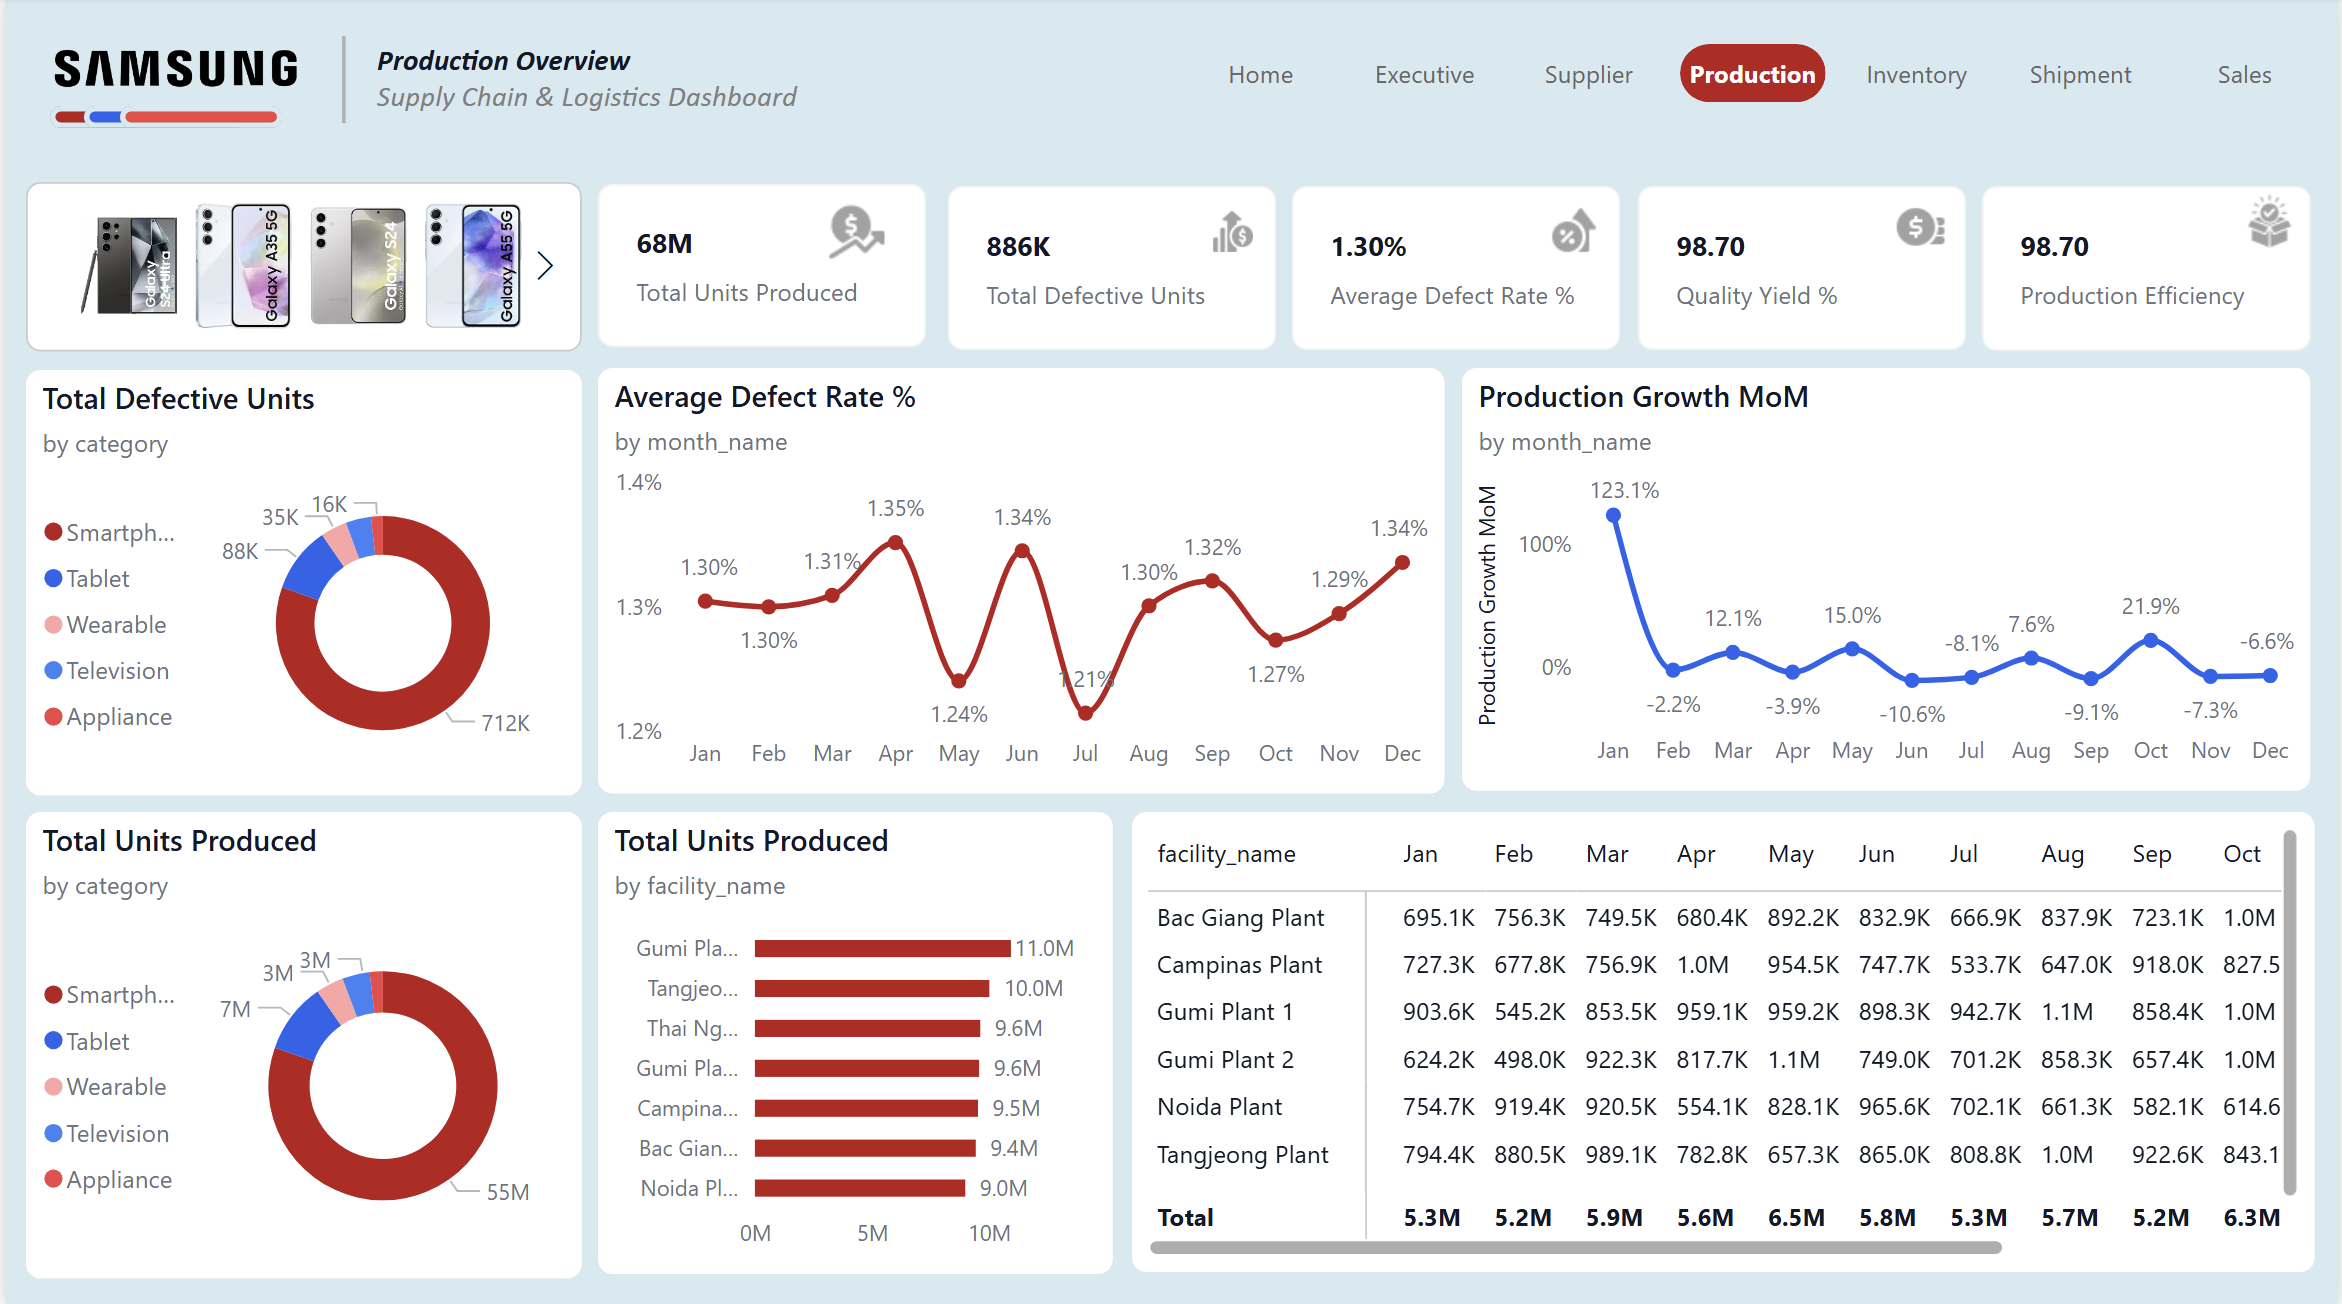

What the dashboard file says about the page in this screenshot:
{"tool":"powerbi","page":{"name":"Production","canvas":[1280,720],"ordinal":3},"visuals":[{"type":"lineChart","fields":{"Y":["MeasureTable.Average Defect Rate %"],"Category":["dim_date.month_name"]},"box":[325.1,204.6,464.4,233.5],"z":0},{"type":"lineChart","fields":{"Y":["MeasureTable.Production Growth MoM"],"Category":["dim_date.month_name"]},"box":[799.5,204.6,465.7,232.2],"z":1000},{"type":"clusteredBarChart","fields":{"Category":["dim_facility.facility_name"],"Y":["MeasureTable.Total Units Produced"]},"box":[325.1,448.1,282.4,253.5],"z":2000},{"type":"pivotTable","fields":{"Values":["MeasureTable.Formatted_Total Units Produced"],"Rows":["dim_facility.facility_name"],"Columns":["dim_date.month_name"]},"box":[617.5,448.1,648.9,252.3],"z":3000},{"type":"cardVisual","fields":{"Data":["MeasureTable.Production Efficiency"]},"box":[1084.5,104.2,180.7,90.4],"z":4000},{"type":"cardVisual","fields":{"Data":["MeasureTable.Total Units Produced"]},"box":[325,103.6,179.8,89.3],"z":5000},{"type":"cardVisual","fields":{"Data":["MeasureTable.Average Defect Rate %"]},"box":[706.3,103.8,180,90],"z":6000},{"type":"cardVisual","fields":{"Data":["MeasureTable.Quality Yield %"]},"box":[895.4,103.8,180,90],"z":7000},{"type":"cardVisual","fields":{"Data":["MeasureTable.Total Defective Units"]},"box":[517.2,103.8,180,90],"z":8000},{"type":"image","box":[446.4,108.3,40.5,40.5],"z":9000},{"type":"image","box":[657.1,111.9,32.1,34.5],"z":10000},{"type":"image","box":[840.5,108.3,39.3,39.3],"z":11000},{"type":"image","box":[1031.8,106.7,38,40.5],"z":12000},{"type":"image","box":[1222.9,103.4,39.2,40.5],"z":13000},{"type":"advancedSlicerVisual","fields":{"Values":["dim_product.Img"]},"box":[10.7,102.4,304.8,92.9],"z":14000},{"type":"donutChart","fields":{"Category":["dim_product.category"],"Y":["MeasureTable.Total Units Produced"]},"box":[10.7,447.6,304.8,256],"z":15000},{"type":"donutChart","fields":{"Category":["dim_product.category"],"Y":["MeasureTable.Total Defective Units"]},"box":[10.7,204.8,304.8,233.3],"z":16000},{"type":"image","box":[11.3,15.1,158.1,47.7],"z":17000},{"type":"pageNavigator","box":[648.8,26.2,621.4,32.1],"z":18000},{"type":"shape","box":[156.9,21.5,56.9,48.1],"z":19000},{"type":"shape","box":[23.9,60,89.1,12],"z":20000},{"type":"shape","box":[42.7,60,89.1,12],"z":21000},{"type":"shape","box":[62.8,60,89.1,12],"z":22000},{"type":"textbox","box":[198.3,21.3,362.7,69],"z":23000}]}

Visuals, with their boxes in screenshot pixels (x1, y1, x2, y2), scaled from the page's 1280x720 canvas onto the 2342x1304 screenshot:
lineChart - MeasureTable.Average Defect Rate % x dim_date.month_name: bbox=(595, 371, 1445, 793)
lineChart - MeasureTable.Production Growth MoM x dim_date.month_name: bbox=(1463, 371, 2315, 791)
clusteredBarChart - dim_facility.facility_name x MeasureTable.Total Units Produced: bbox=(595, 812, 1112, 1271)
pivotTable - MeasureTable.Formatted_Total Units Produced x dim_facility.facility_name: bbox=(1130, 812, 2317, 1269)
cardVisual - MeasureTable.Production Efficiency: bbox=(1984, 189, 2315, 352)
cardVisual - MeasureTable.Total Units Produced: bbox=(595, 188, 924, 349)
cardVisual - MeasureTable.Average Defect Rate %: bbox=(1292, 188, 1622, 351)
cardVisual - MeasureTable.Quality Yield %: bbox=(1638, 188, 1968, 351)
cardVisual - MeasureTable.Total Defective Units: bbox=(946, 188, 1276, 351)
image: bbox=(817, 196, 891, 269)
image: bbox=(1202, 203, 1261, 265)
image: bbox=(1538, 196, 1610, 267)
image: bbox=(1888, 193, 1957, 267)
image: bbox=(2238, 187, 2309, 261)
advancedSlicerVisual - dim_product.Img: bbox=(20, 185, 577, 354)
donutChart - dim_product.category x MeasureTable.Total Units Produced: bbox=(20, 811, 577, 1274)
donutChart - dim_product.category x MeasureTable.Total Defective Units: bbox=(20, 371, 577, 793)
image: bbox=(21, 27, 310, 114)
pageNavigator: bbox=(1187, 47, 2324, 106)
shape: bbox=(287, 39, 391, 126)
shape: bbox=(44, 109, 207, 130)
shape: bbox=(78, 109, 241, 130)
shape: bbox=(115, 109, 278, 130)
textbox: bbox=(363, 39, 1026, 164)
